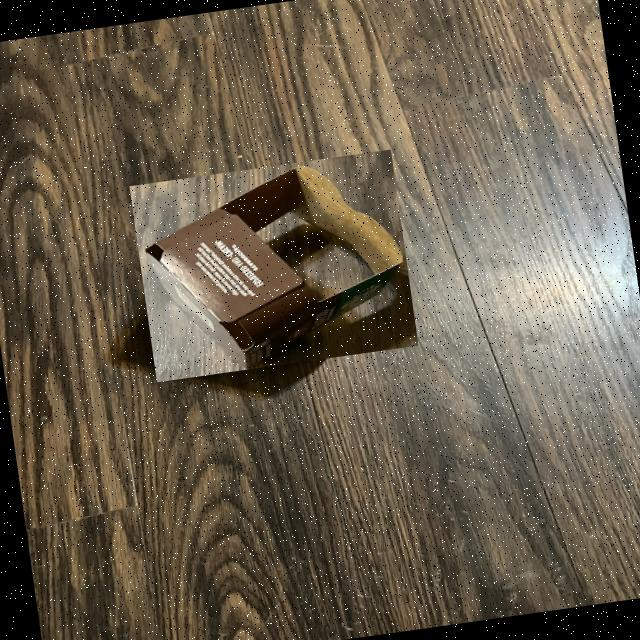Unlabeled litter: (139, 163, 406, 371)
